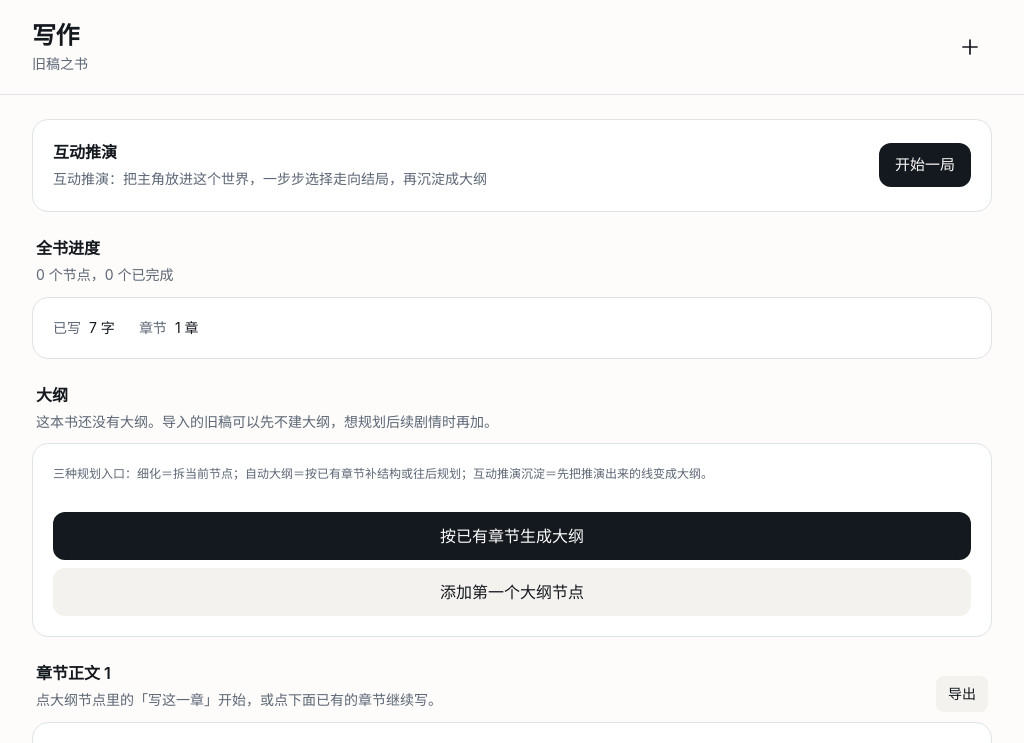
Test: M3-S2 · 确认 / 关闭 / 失败 › 仓储失败：显示 role=alert，且不留半套数据
Click the button "按已有章节生成大纲".
click(512, 536)  # box [53,512,971,560]
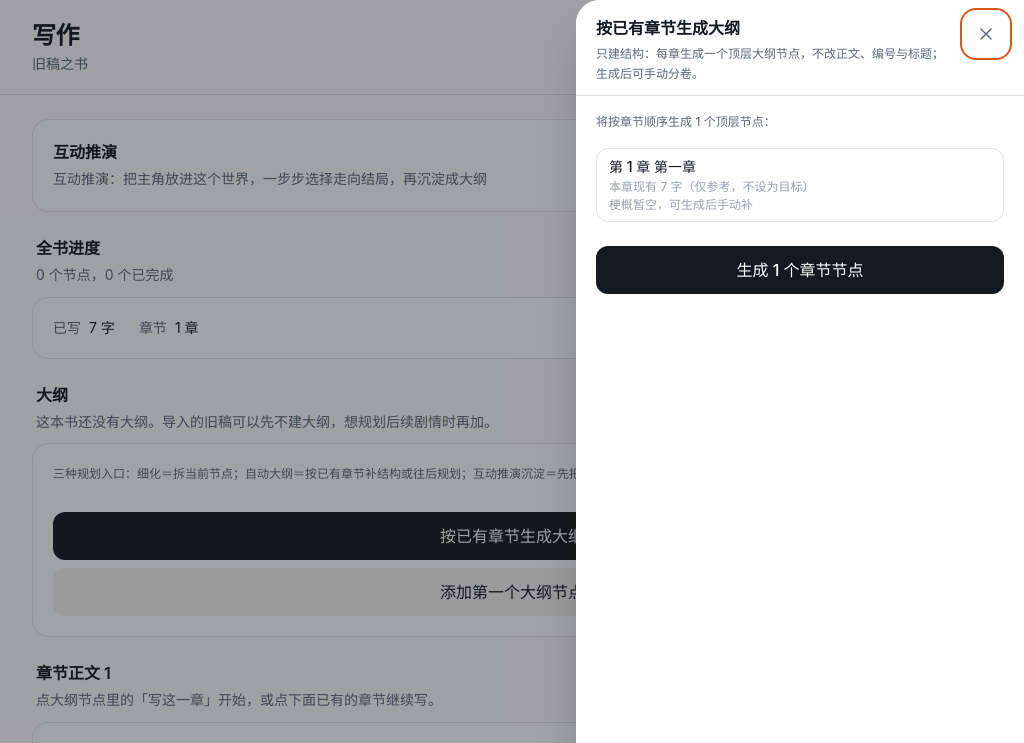
Click the button "生成 1 个章节节点".
click(800, 270)  # box [596,246,1004,294]
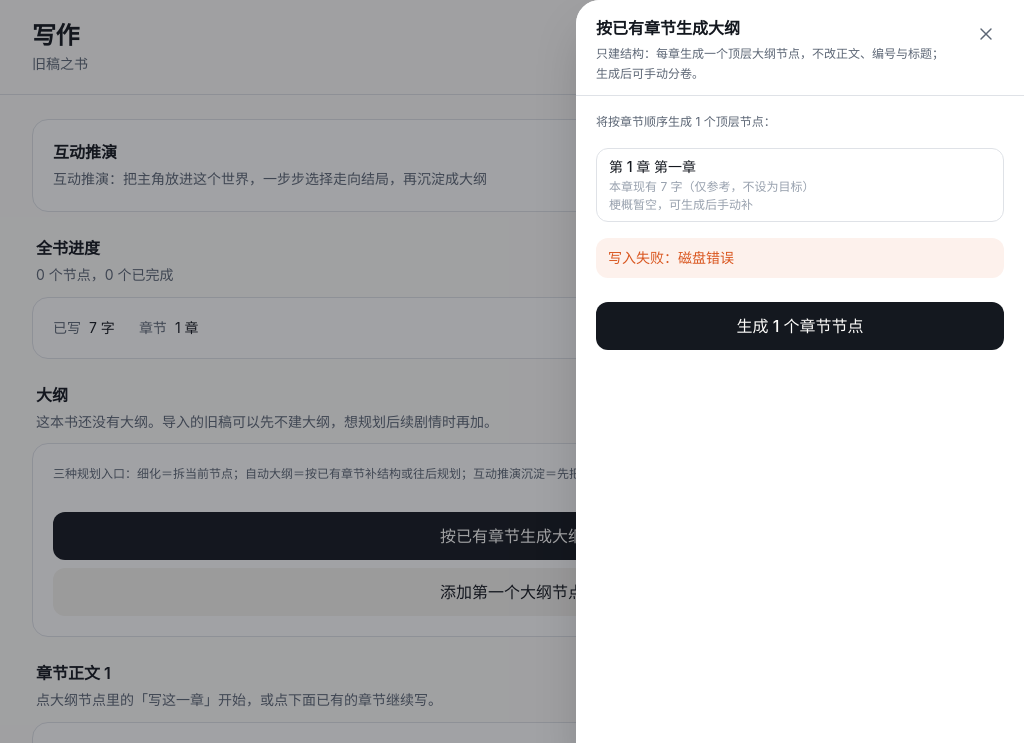
Now the button "生成 1 个章节节点" is shown, box [596,302,1004,350]
Now the message reads "写入失败：磁盘错误", box [608,248,734,266]
